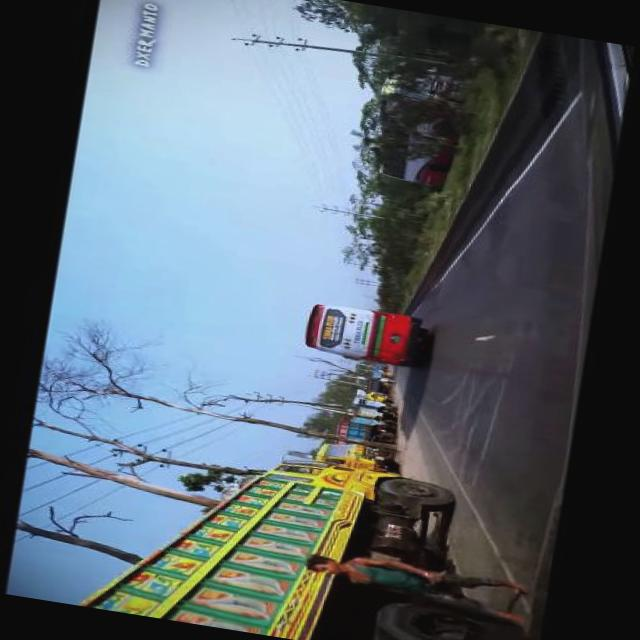bus: (364, 64, 463, 190), (298, 300, 422, 370)
truck: (71, 422, 549, 640), (312, 438, 390, 472)
